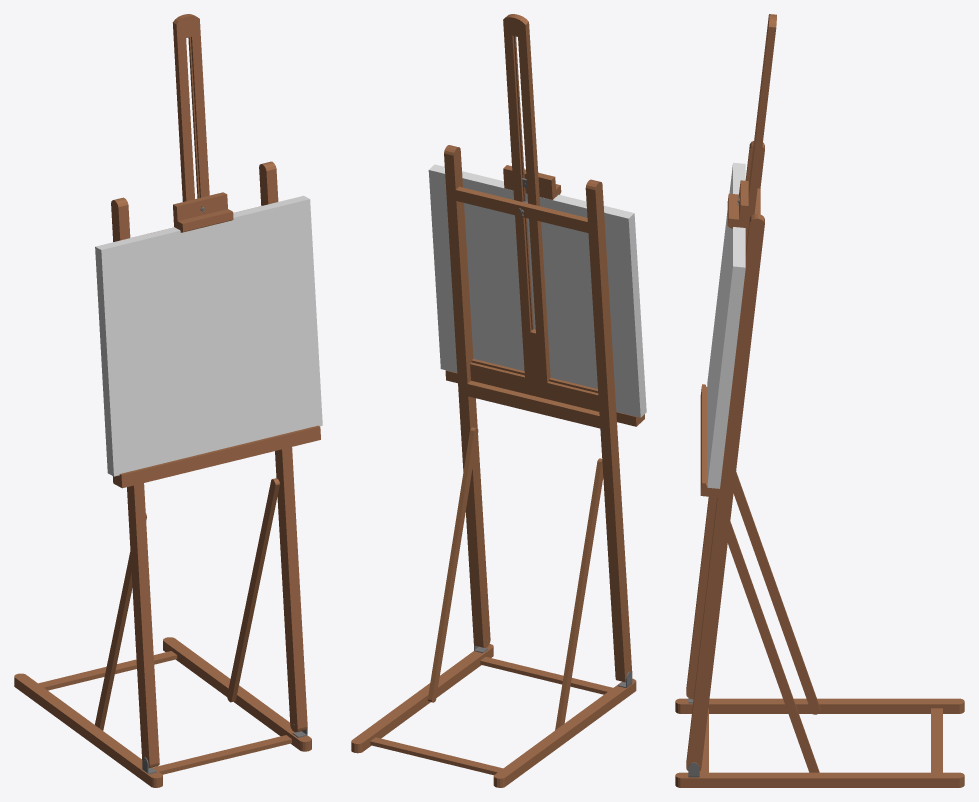
Rendered from Canvas.fbx.
The picture shows the model from 3 angles, left to right: view 1: azimuth 30°, elevation 25°; view 2: azimuth 150°, elevation 25°; view 3: azimuth 270°, elevation 25°; orthographic projection. The views are drawn at different scales.
Parts seen in each view (by area): view 1: Cube, Cube.001, Cube.008, Cube.003, Cube.010, Cube.002, Cube.009; view 2: Cube, Cube.001, Cube.003, Cube.008, Cube.010, Cube.009, Cube.002; view 3: Cube.001, Cube.008, Cube, Cube.003, Cube.010, Cube.009, Cube.002.
Part boxes in pixels (box(x1,y1,x2,y2)): Cube: box(95, 195, 322, 476); Cube.001: box(111, 161, 307, 768); Cube.008: box(14, 637, 311, 787); Cube.003: box(113, 14, 320, 488); Cube.010: box(227, 478, 279, 702); Cube.002: box(173, 192, 233, 232); Cube.009: box(95, 513, 146, 730); Cube: box(428, 164, 646, 417); Cube.001: box(444, 145, 632, 682); Cube.003: box(445, 14, 644, 426); Cube.008: box(351, 644, 636, 787); Cube.010: box(427, 427, 478, 702); Cube.009: box(555, 458, 603, 730); Cube.002: box(503, 165, 561, 199); Cube.001: box(686, 141, 764, 770); Cube.008: box(675, 698, 964, 787); Cube: box(707, 162, 745, 488); Cube.003: box(700, 14, 776, 497); Cube.010: box(727, 521, 819, 772); Cube.009: box(733, 471, 820, 714); Cube.002: box(727, 180, 748, 228).
Bounding box in the file's own units: 589 × 1939 × 695.
